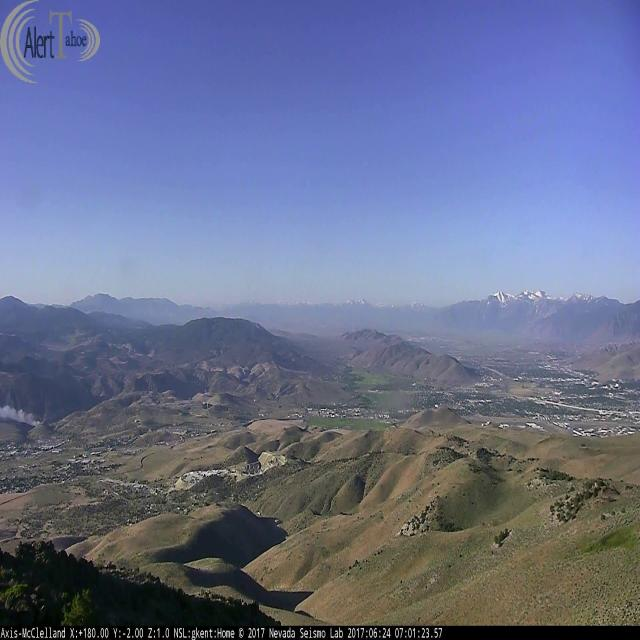smoke: (0, 396, 47, 430)
